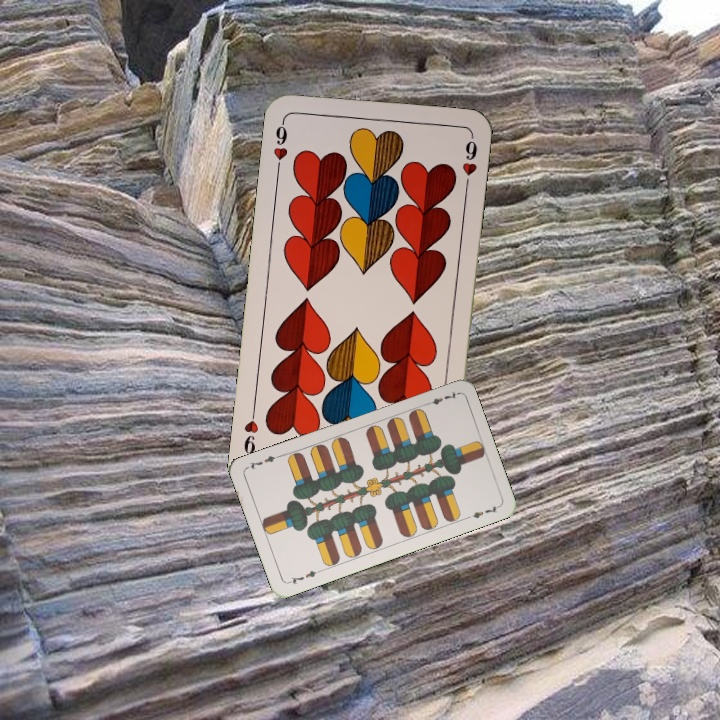E7: (284, 566, 323, 587), (421, 388, 460, 408)
H9: (269, 114, 291, 173)
